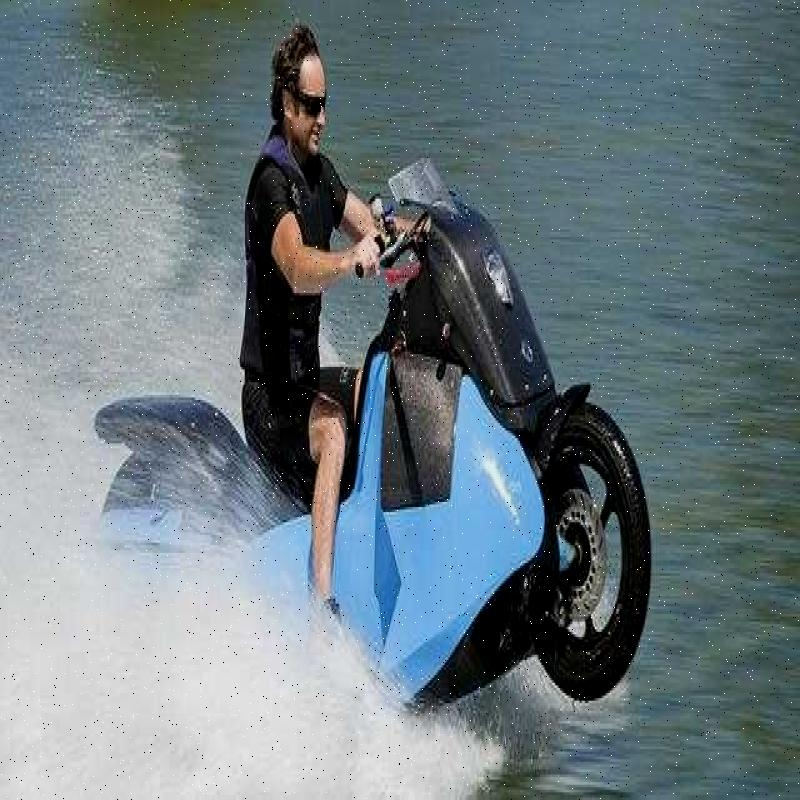bike: (137, 151, 646, 720)
